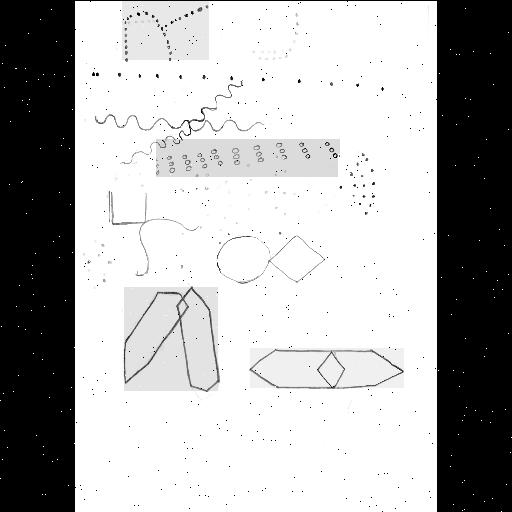shape-1: (218, 236, 324, 282)
shape-2: (92, 66, 382, 92)
shape-3: (156, 139, 340, 177)
shape-4: (338, 154, 376, 214)
shape-5: (110, 189, 200, 275)
shape-6: (122, 0, 209, 60)
shape-7: (96, 80, 262, 162)
shape-8: (124, 287, 218, 391)
shape-9: (250, 348, 404, 388)
